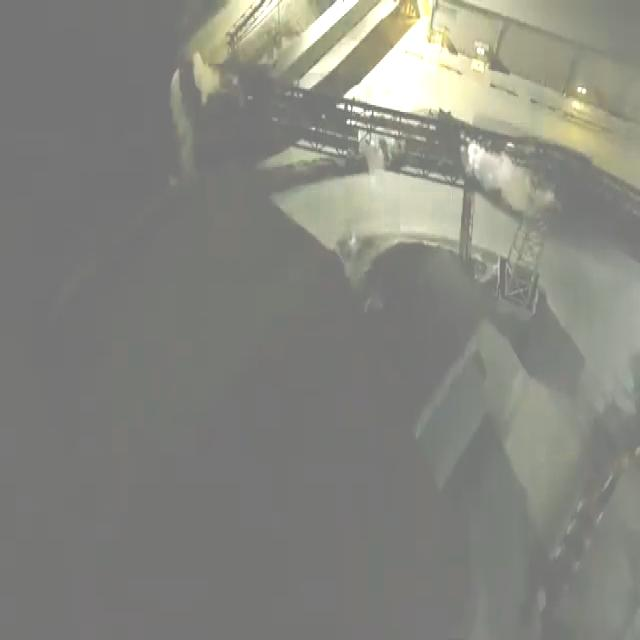smoke: (464, 137, 555, 224)
